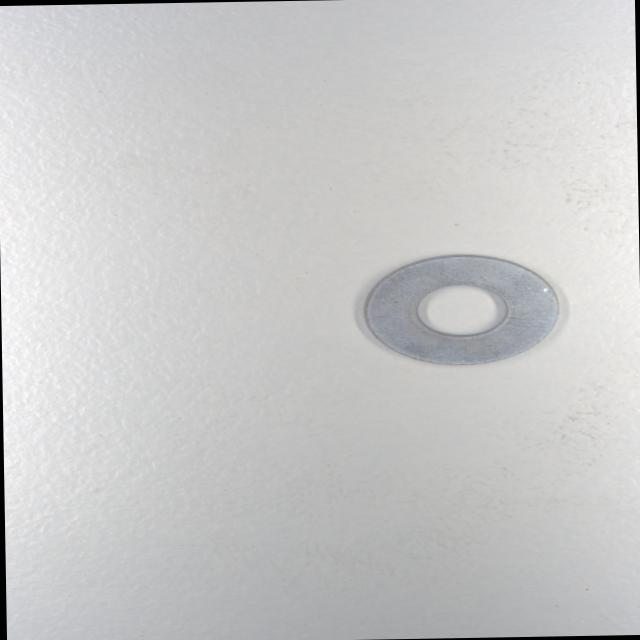washer: (358, 252, 560, 369)
